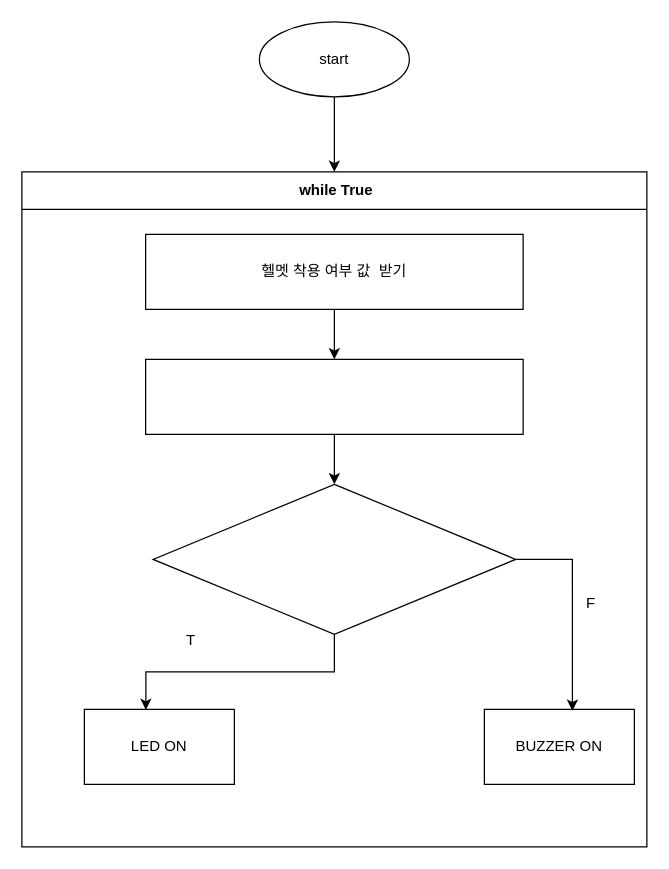
Image size: 669x869. Some labels were removed from this diagram. Each missing label, with the centre of its shape:
"다중 탑승 방지 값 받기" belongs at point (333, 396).
"헬멧 착용 여부 && 다중 탑승 방지 == True" belongs at point (334, 558).
